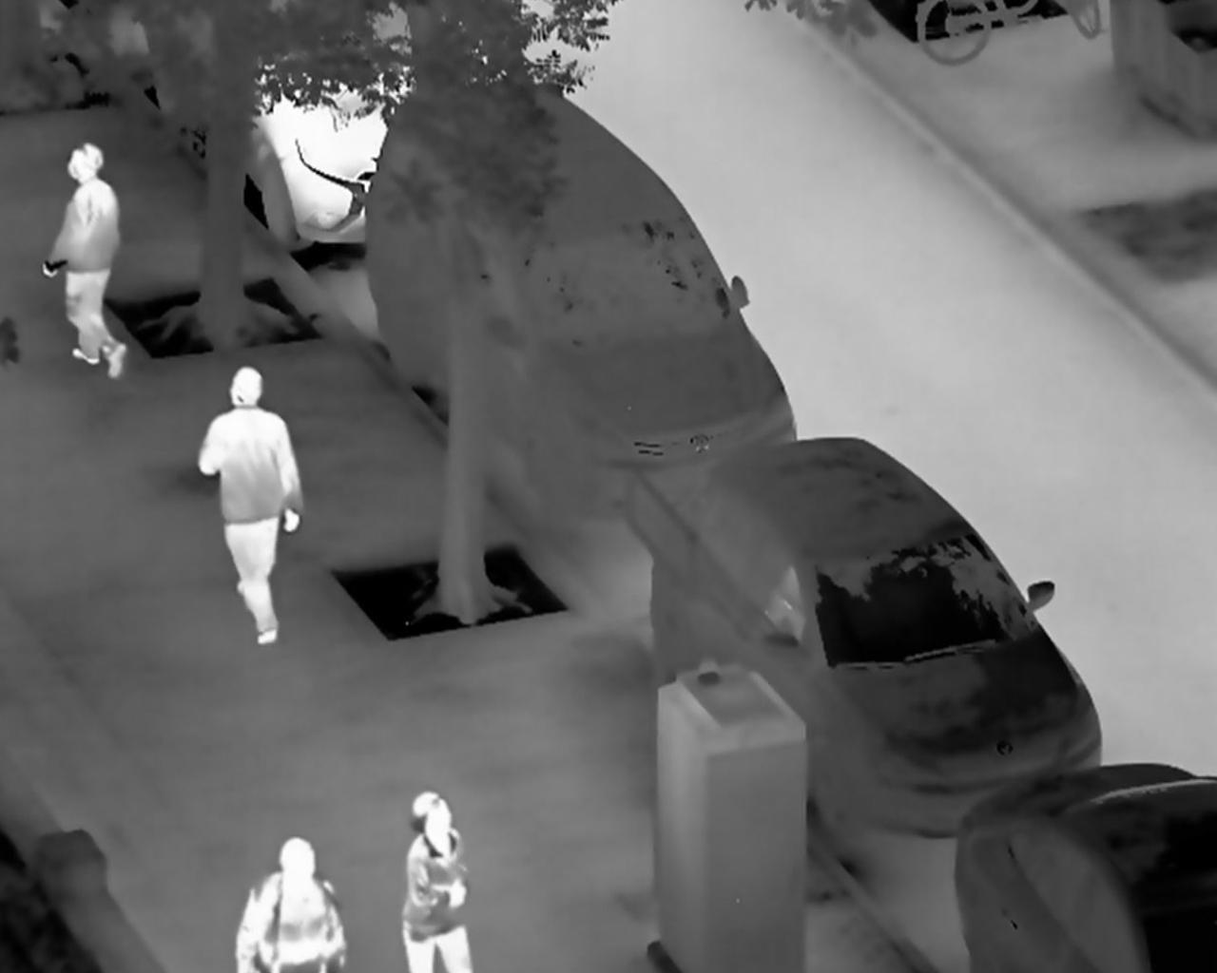person: (194, 363, 304, 648), (40, 140, 129, 386), (232, 837, 348, 973), (398, 788, 474, 973)
